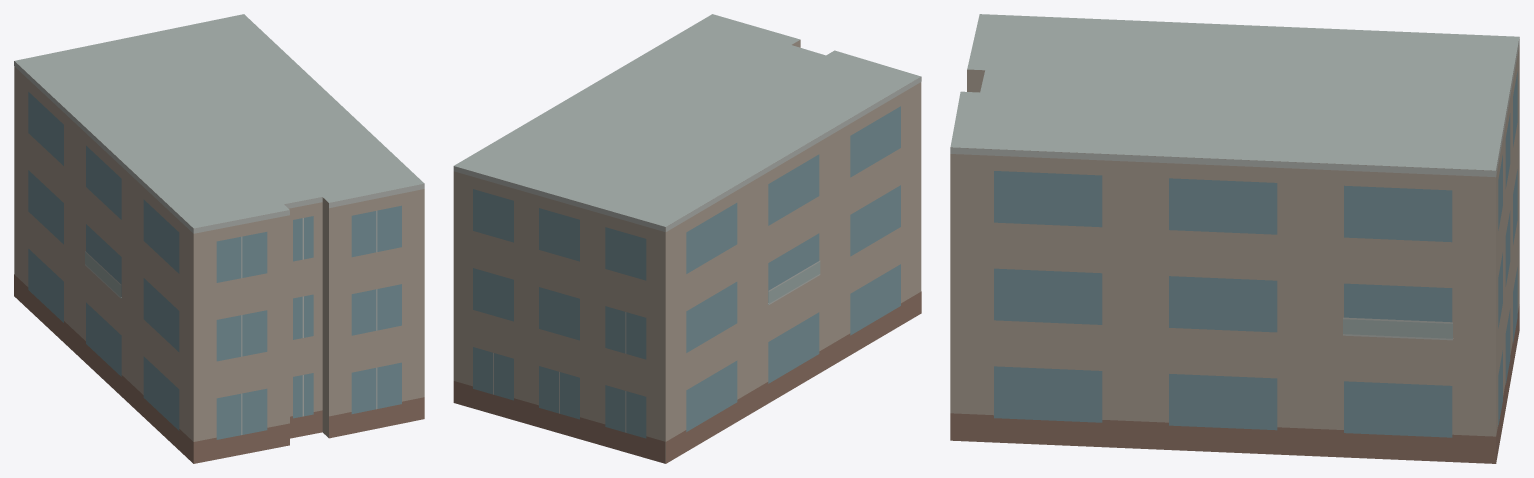
File: survey-upis-32500760.glb
The picture shows the model from 3 angles, left to right: view 1: azimuth 30°, elevation 25°; view 2: azimuth 150°, elevation 25°; view 3: azimuth 270°, elevation 25°; orthographic projection. The views are drawn at different scales.
Visible parts, largest first — view 1: survey-upis-32500760.tmp; view 2: survey-upis-32500760.tmp; view 3: survey-upis-32500760.tmp.
Boxes of the visible parts, <box> form: survey-upis-32500760.tmp: <box>14,14,424,463</box>; survey-upis-32500760.tmp: <box>453,14,921,463</box>; survey-upis-32500760.tmp: <box>950,14,1519,463</box>.
Bounding box in the file's own units: 12.49 × 10.9 × 19.18.
